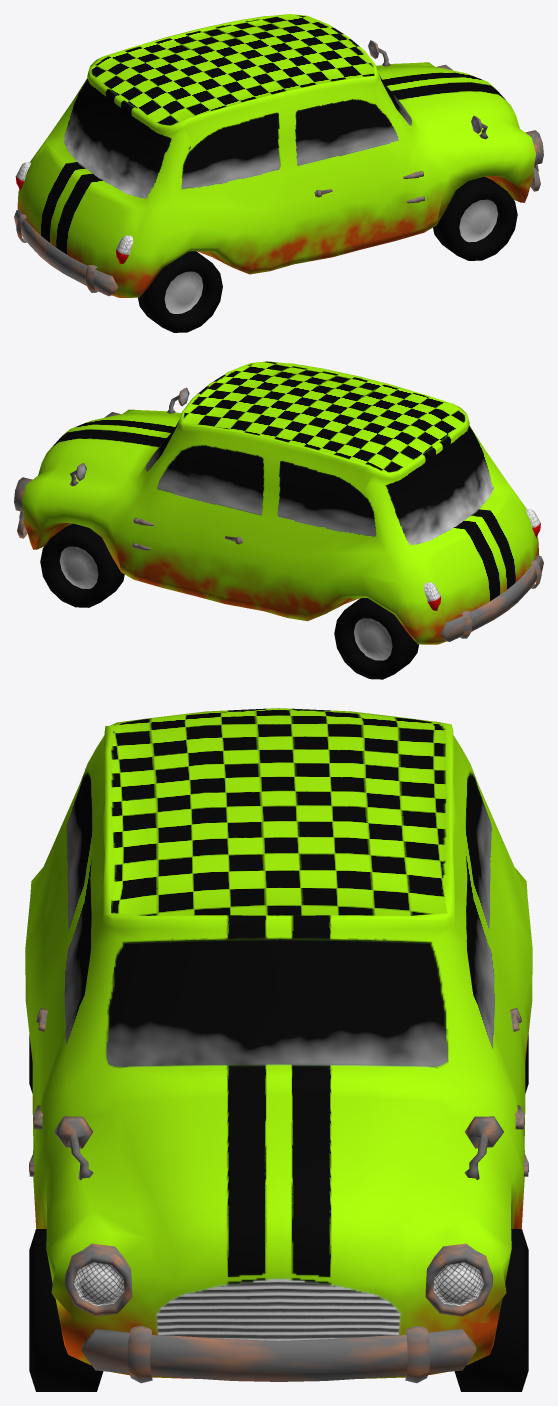
The model's file is cargreen.glb.
The picture shows the model from 3 angles, top to bottom: view 1: azimuth 30°, elevation 25°; view 2: azimuth 150°, elevation 25°; view 3: azimuth 270°, elevation 25°; orthographic projection. The views are drawn at different scales.
Visible parts, largest first — view 1: cargreen, lowpolywheel.005, lowpolywheel.006, Cube.001, backlight.001, RETROVISEURLOW.001; view 2: cargreen, lowpolywheel.008, lowpolywheel.007, Cube.001, backlight.001, RETROVISEURLOW.001; view 3: cargreen, Cube.002, lightinfront.001, lowpolywheel.005, lowpolywheel.008, RETROVISEURLOW.001, Cube.006.
Boxes of the visible parts, x1,y1,x2,y2 form: cargreen: [17, 14, 536, 297]; lowpolywheel.005: [433, 176, 517, 260]; lowpolywheel.006: [138, 251, 222, 332]; Cube.001: [14, 209, 118, 296]; backlight.001: [15, 162, 132, 264]; RETROVISEURLOW.001: [368, 40, 488, 139]; cargreen: [21, 361, 538, 644]; lowpolywheel.008: [40, 523, 124, 607]; lowpolywheel.007: [334, 598, 418, 679]; Cube.001: [440, 555, 543, 641]; backlight.001: [424, 509, 540, 610]; RETROVISEURLOW.001: [69, 387, 189, 486]; cargreen: [25, 708, 532, 1378]; Cube.002: [81, 1326, 476, 1383]; lightinfront.001: [65, 1243, 492, 1316]; lowpolywheel.005: [29, 1229, 103, 1391]; lowpolywheel.008: [454, 1229, 528, 1391]; RETROVISEURLOW.001: [54, 1116, 503, 1180]; Cube.006: [29, 1008, 528, 1176].
Size of the model in its own units: 8.13 by 3.46 by 3.93.
Materials: 1 (1 with a texture image).
